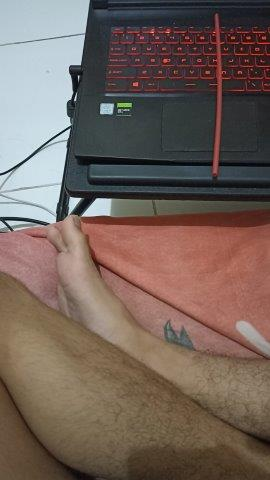sedotan: (212, 15, 222, 175)
